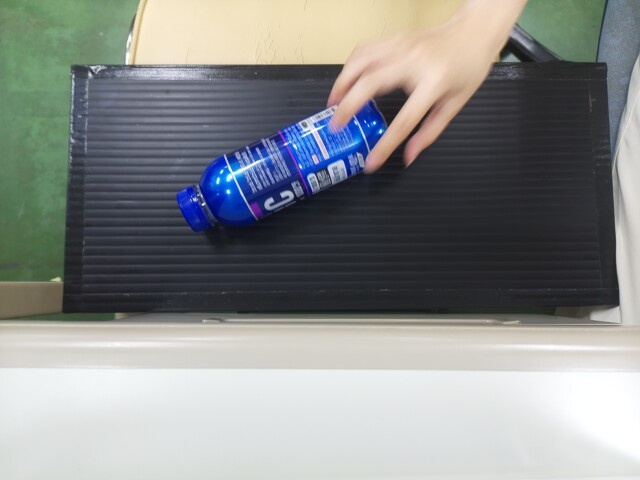plastic_bottle: (175, 108, 359, 228)
